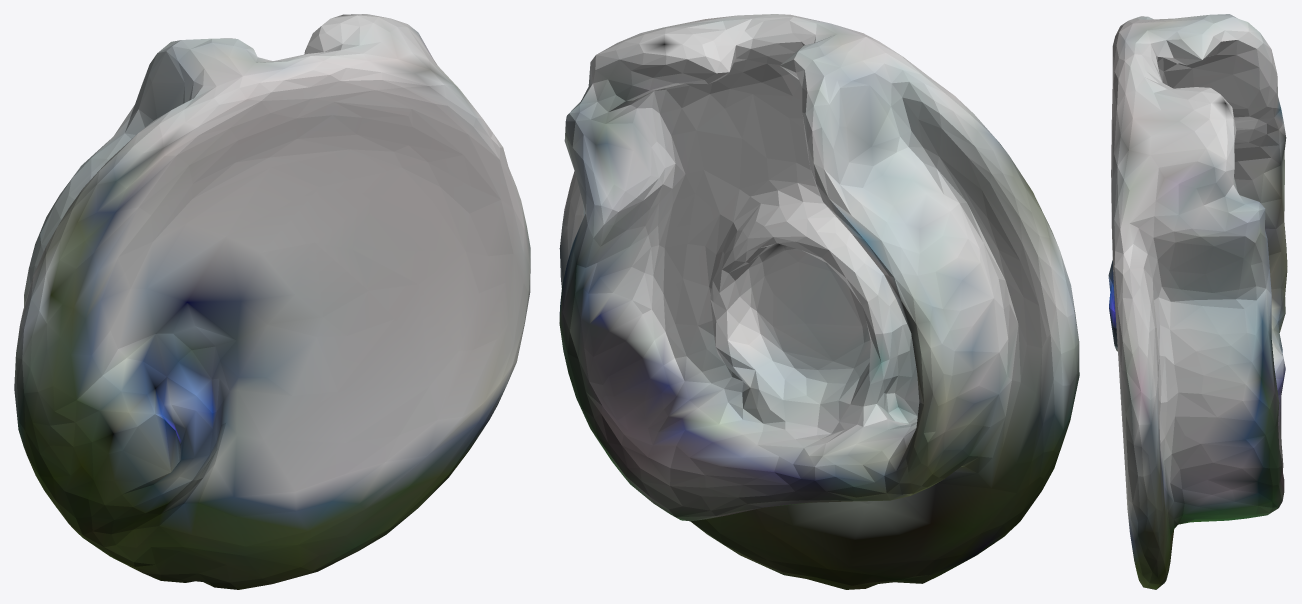
Rendered from scan.obj.
3 renders of one model, left to right at view 1: azimuth 30°, elevation 25°; view 2: azimuth 150°, elevation 25°; view 3: azimuth 270°, elevation 25°, orthographic. The views are drawn at different scales.
Visible parts, largest first — view 1: scan.ply; view 2: scan.ply; view 3: scan.ply.
Part boxes in pixels (left/top/right/bottom): scan.ply: left=14, top=14, right=530, bottom=589; scan.ply: left=559, top=14, right=1079, bottom=589; scan.ply: left=1108, top=14, right=1287, bottom=589.
Size of the model in its own units: 0.0356 by 0.0358 by 0.0111.
